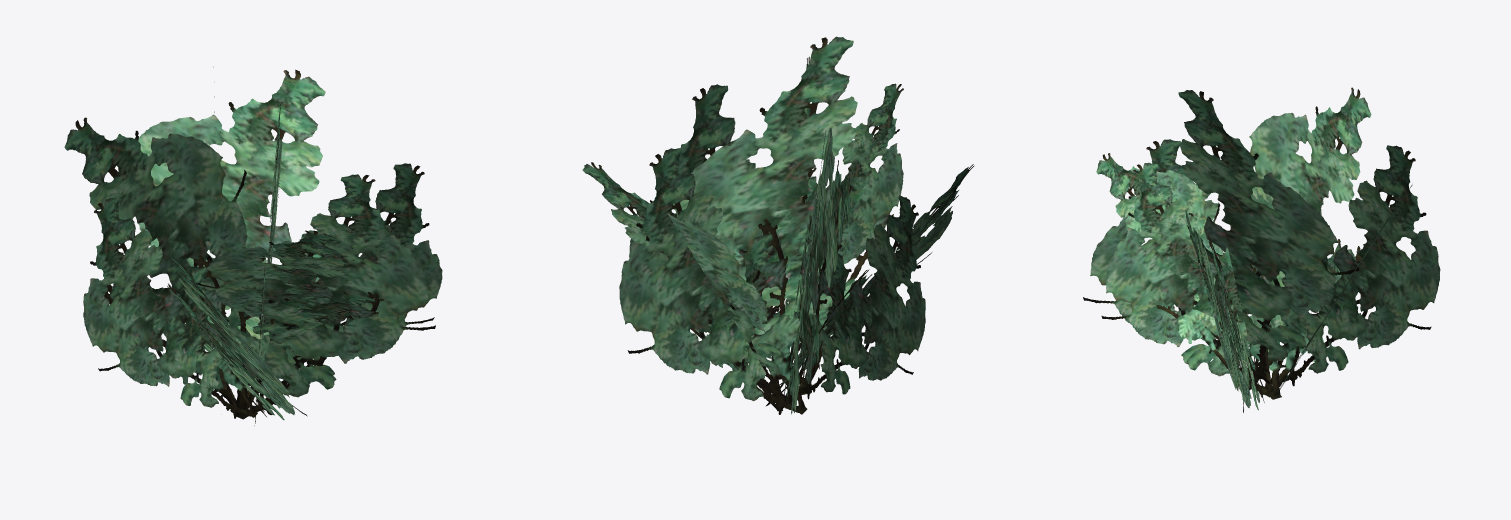
Rendered from Bush_A.glb.
3 views of the same model, side by side, from view 1: azimuth 30°, elevation 25°; view 2: azimuth 150°, elevation 25°; view 3: azimuth 270°, elevation 25° (orthographic). The views are drawn at different scales.
Visible parts, largest first — view 1: Bush; view 2: Bush; view 3: Bush.
Part boxes in pixels (bbox=[...]): Bush: bbox=[64, 67, 442, 425]; Bush: bbox=[582, 36, 974, 414]; Bush: bbox=[1083, 87, 1440, 412].
Size of the model in its own units: 1.89 by 1.92 by 1.91.
Materials: 1 (1 with a texture image).
